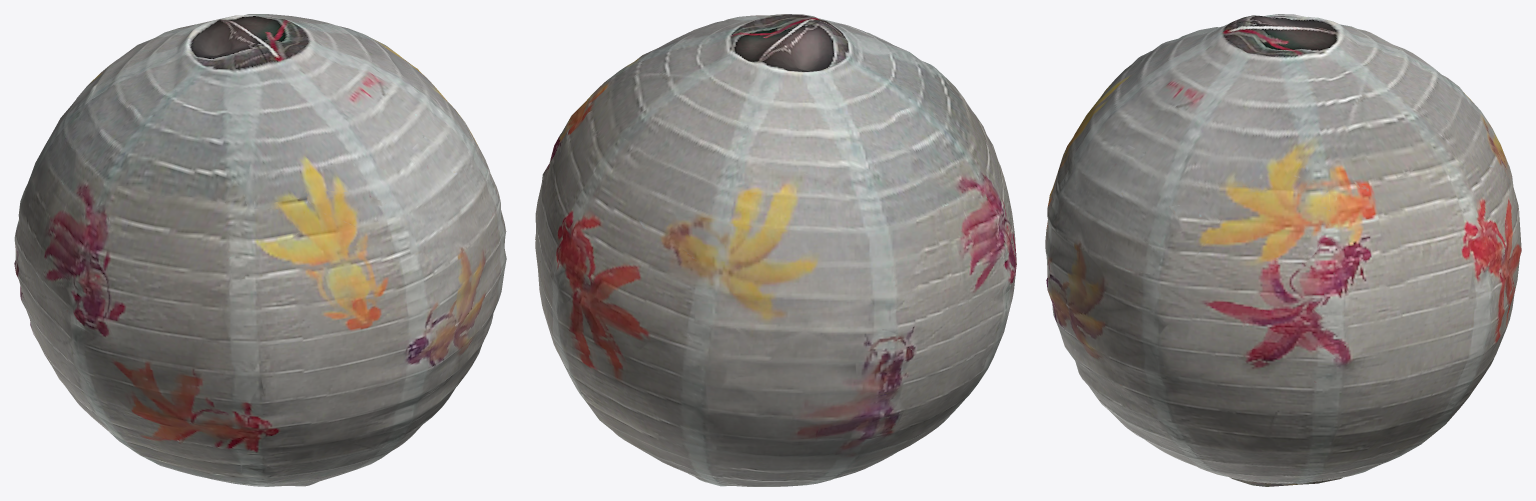
Rendered from AH3 Zea Lim Fish.fbx.
3 views of the same model, side by side, from view 1: azimuth 30°, elevation 25°; view 2: azimuth 150°, elevation 25°; view 3: azimuth 270°, elevation 25° (orthographic).
Parts seen in each view (by area): view 1: Stereo textured mesh; view 2: Stereo textured mesh; view 3: Stereo textured mesh.
Boxes of the visible parts, box(x1,y1,x2,y2) form: Stereo textured mesh: box(14, 14, 506, 486); Stereo textured mesh: box(535, 14, 1016, 486); Stereo textured mesh: box(1045, 14, 1521, 486).
Bounding box in the file's own units: 9.04 × 8.99 × 8.84.
1 material, 1 textured.
